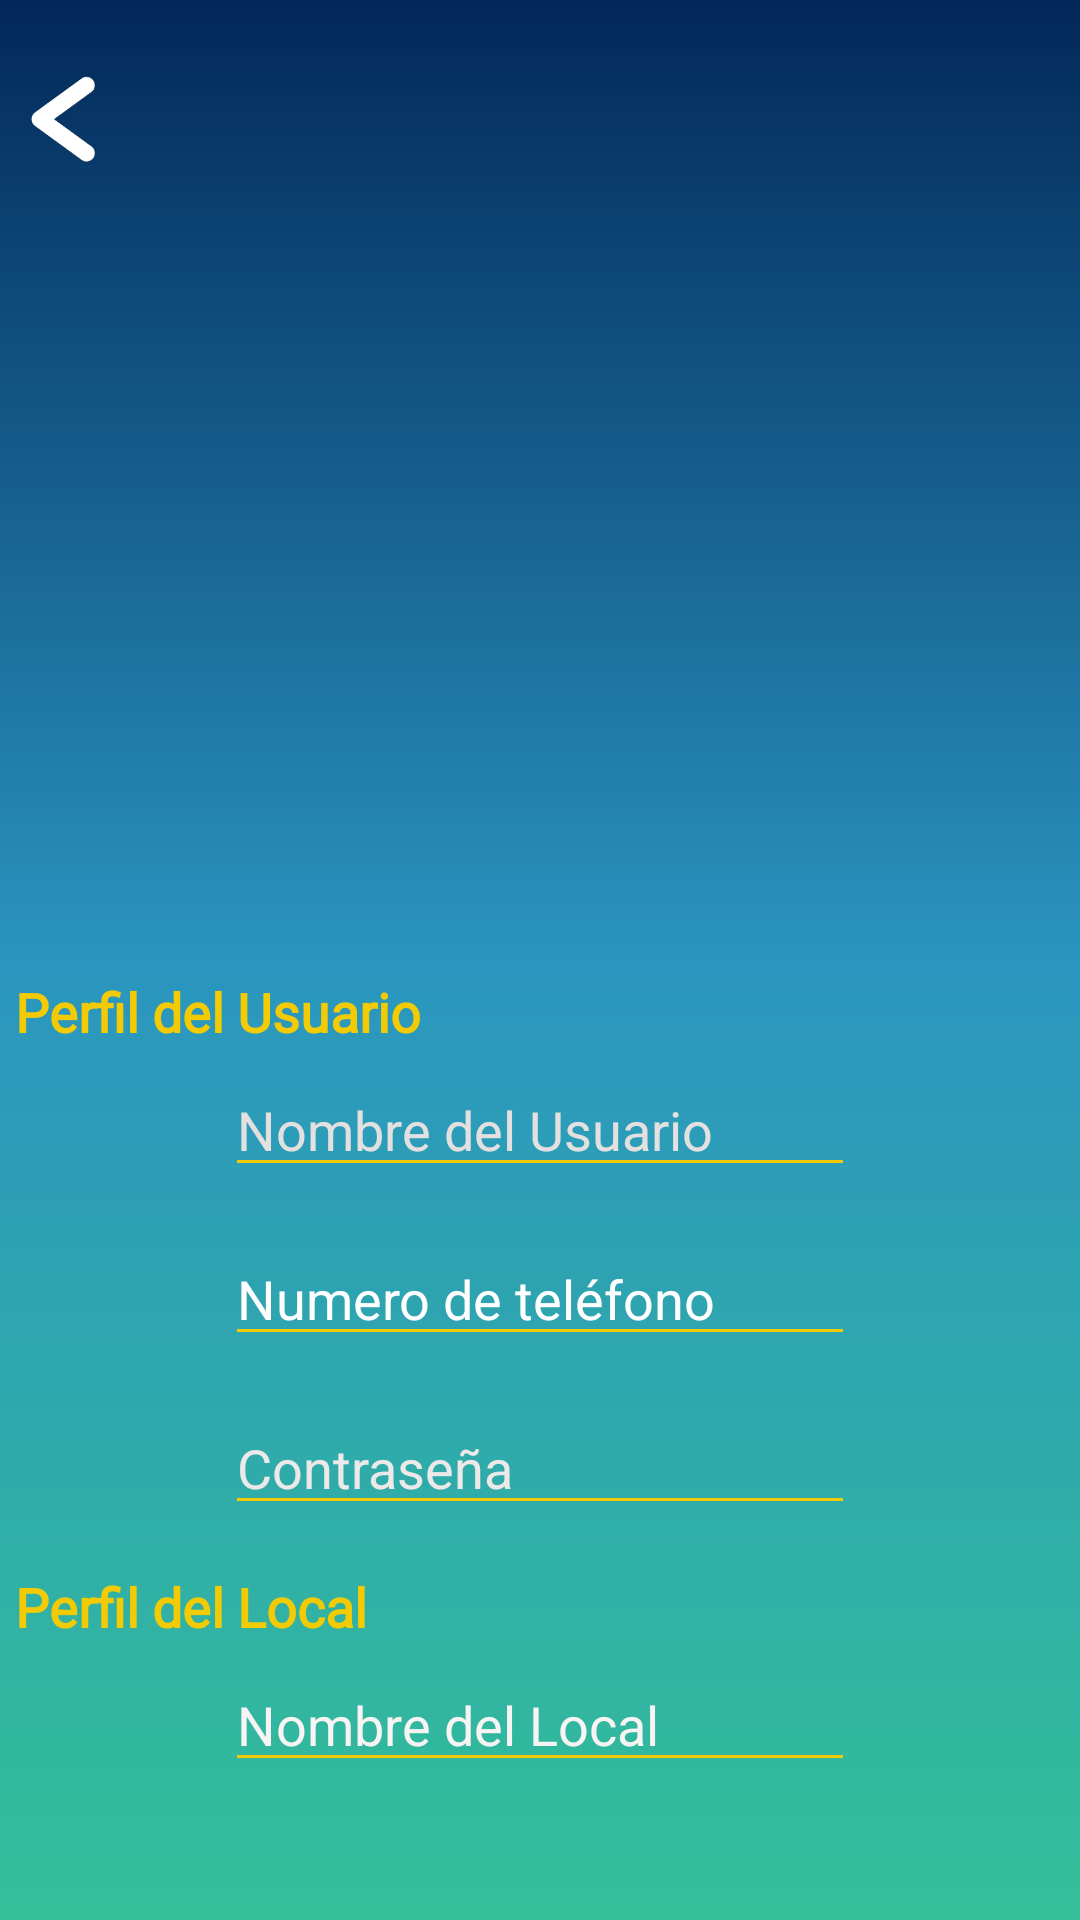

Where icons sit on this 1080x1920 app screen, as (x1=x1, y1=y1, x2=x2, y2=y2):
atras: (x1=30, y1=45, x2=105, y2=162)
